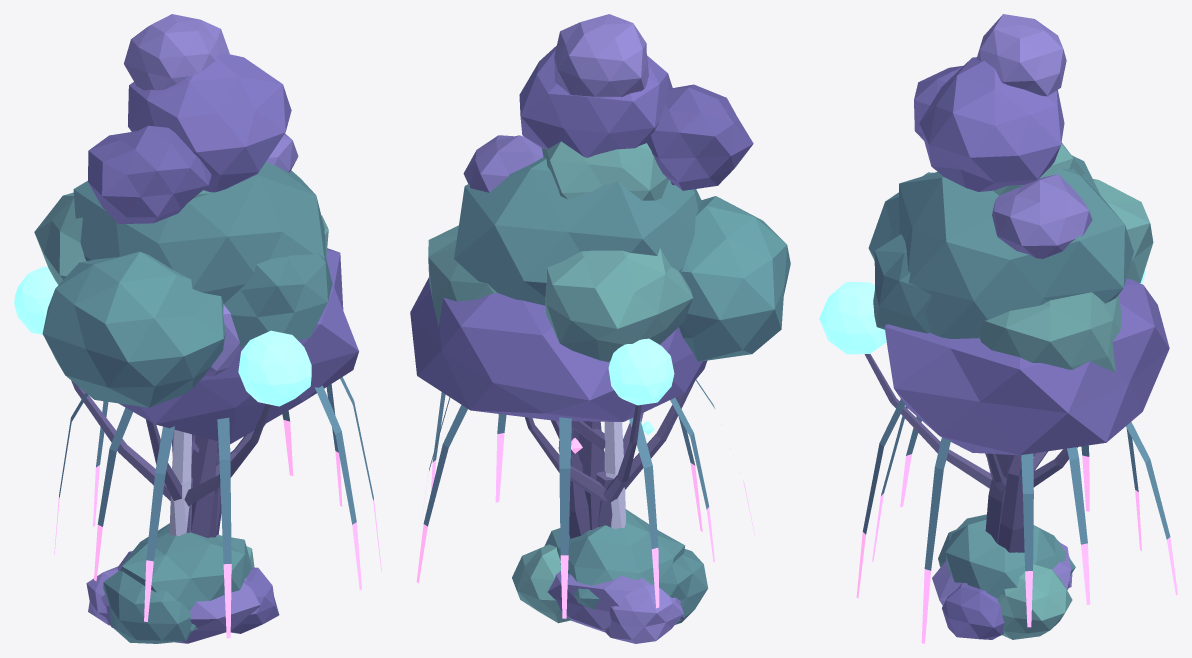
File: nature_pack.glb
3 renders of one model, left to right at view 1: azimuth 30°, elevation 25°; view 2: azimuth 150°, elevation 25°; view 3: azimuth 270°, elevation 25°, orthographic.
Visible parts, largest first — view 1: tree_leafy, tree_birch, tree_willow, bush_a, tree_glow, bush_b; view 2: tree_leafy, tree_willow, tree_birch, bush_a, tree_glow, bush_b; view 3: tree_leafy, tree_willow, tree_birch, bush_a, tree_glow, bush_b.
Boxes of the visible parts, x1,y1,x2,y2 form: tree_leafy: [34, 162, 332, 538]; tree_birch: [88, 14, 298, 536]; tree_willow: [54, 248, 381, 638]; bush_a: [103, 523, 254, 643]; tree_glow: [14, 266, 311, 532]; bush_b: [86, 551, 279, 643]; tree_leafy: [428, 141, 790, 529]; tree_willow: [410, 277, 755, 618]; tree_birch: [463, 14, 753, 528]; bush_a: [512, 509, 708, 624]; tree_glow: [525, 338, 694, 527]; bush_b: [548, 563, 684, 643]; tree_leafy: [868, 142, 1153, 543]; tree_willow: [856, 279, 1177, 643]; tree_birch: [914, 14, 1092, 258]; bush_a: [938, 514, 1075, 639]; tree_glow: [819, 270, 1145, 491]; bush_b: [932, 540, 1072, 639].
Bounding box in the file's own units: 3.68 × 6.64 × 3.6.
